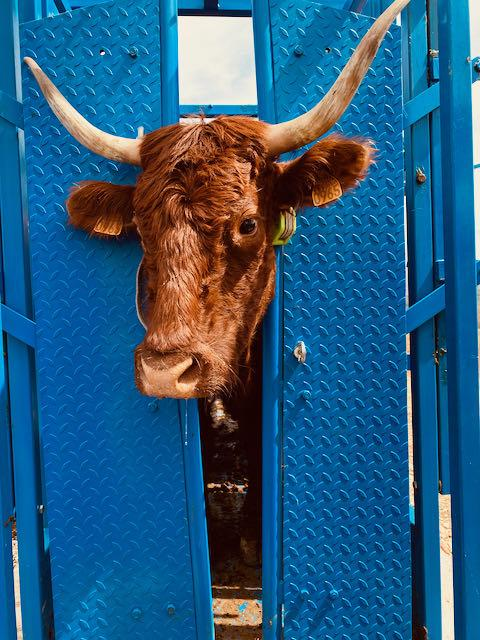muzzles: (123, 343, 215, 408)
